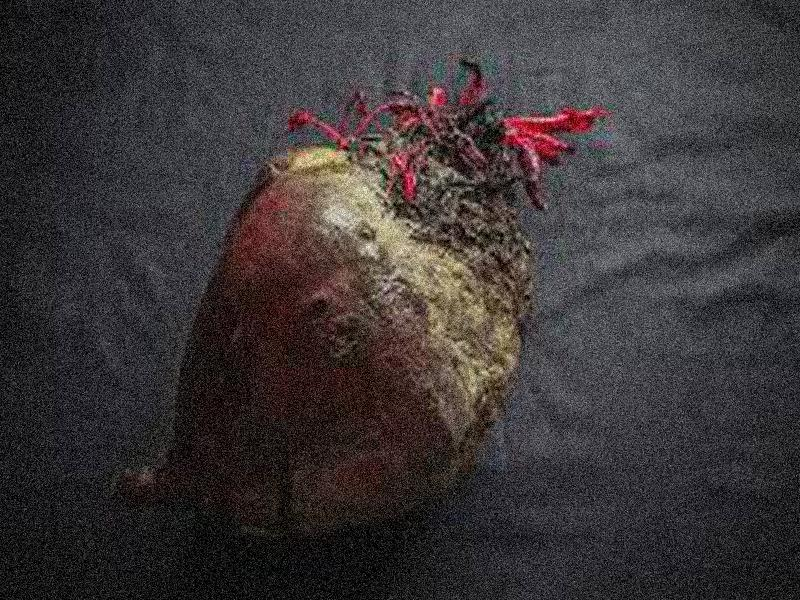Beet: (107, 59, 604, 534)
